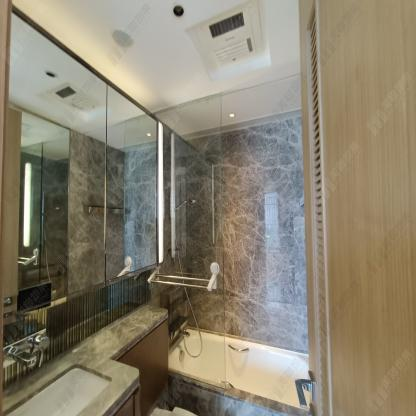Bathtub: (168, 325, 311, 416)
Toilet Sink: (0, 345, 140, 416)
